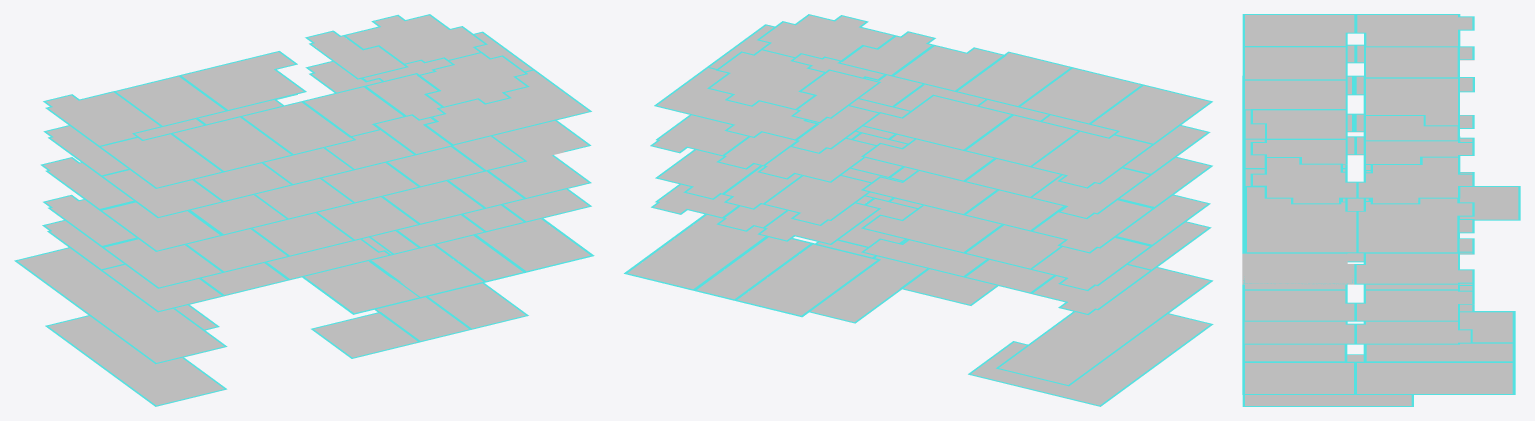
File: BuildingA_Floorplans.glb
3 views of the same model, side by side, from view 1: azimuth 30°, elevation 25°; view 2: azimuth 150°, elevation 25°; view 3: azimuth 270°, elevation 25° (orthographic). The views are drawn at different scales.
Visible parts, largest first — view 1: 001-1_room, 001-0, 503_room, 610_room, 601, 602, 607, 608_room, 606_room, 104, 107, 605 (+43 smaller); view 2: 001-1_room, 001-0, 101_room, 103_room, 502, 610_room, 601, 602, 606_room, 607, 608_room, 313_room (+41 smaller); view 3: 503_room, 502, 103_room, 601, 610_room, 602, 104, 606_room, 607, 608_room, 304, 303_room (+24 smaller).
Part boxes in pixels (left/top/right/bottom): 001-1_room: left=14, top=247, right=227, bottom=364; 001-0: left=45, top=305, right=227, bottom=406; 503_room: left=424, top=69, right=591, bottom=145; 610_room: left=178, top=51, right=306, bottom=111; 601: left=344, top=14, right=487, bottom=64; 602: left=417, top=52, right=529, bottom=107; 607: left=98, top=133, right=223, bottom=188; 608_room: left=43, top=91, right=163, bottom=147; 606_room: left=170, top=116, right=293, bottom=172; 104: left=474, top=218, right=594, bottom=272; 107: left=302, top=260, right=418, bottom=314; 605: left=239, top=101, right=355, bottom=155; 001-1_room: left=996, top=267, right=1213, bottom=386; 001-0: left=968, top=313, right=1213, bottom=406; 101_room: left=733, top=243, right=880, bottom=317; 103_room: left=624, top=214, right=766, bottom=290; 502: left=654, top=67, right=819, bottom=139; 610_room: left=861, top=94, right=1014, bottom=151; 601: left=707, top=50, right=824, bottom=109; 602: left=757, top=14, right=894, bottom=61; 606_room: left=1018, top=67, right=1144, bottom=124; 607: left=1089, top=85, right=1212, bottom=144; 608_room: left=1029, top=130, right=1153, bottom=188; 313_room: left=861, top=205, right=1003, bottom=253; 503_room: left=1244, top=187, right=1358, bottom=253; 502: left=1358, top=198, right=1474, bottom=253; 103_room: left=1354, top=361, right=1515, bottom=394; 601: left=1358, top=156, right=1474, bottom=204; 610_room: left=1363, top=77, right=1459, bottom=126; 602: left=1250, top=157, right=1358, bottom=204; 104: left=1242, top=361, right=1356, bottom=394; 606_room: left=1242, top=46, right=1347, bottom=80; 607: left=1242, top=14, right=1357, bottom=47; 608_room: left=1354, top=14, right=1474, bottom=47; 304: left=1242, top=289, right=1356, bottom=321; 303_room: left=1354, top=289, right=1474, bottom=321.
Size of the model in its own units: 44.08 by 20.91 by 24.65.
